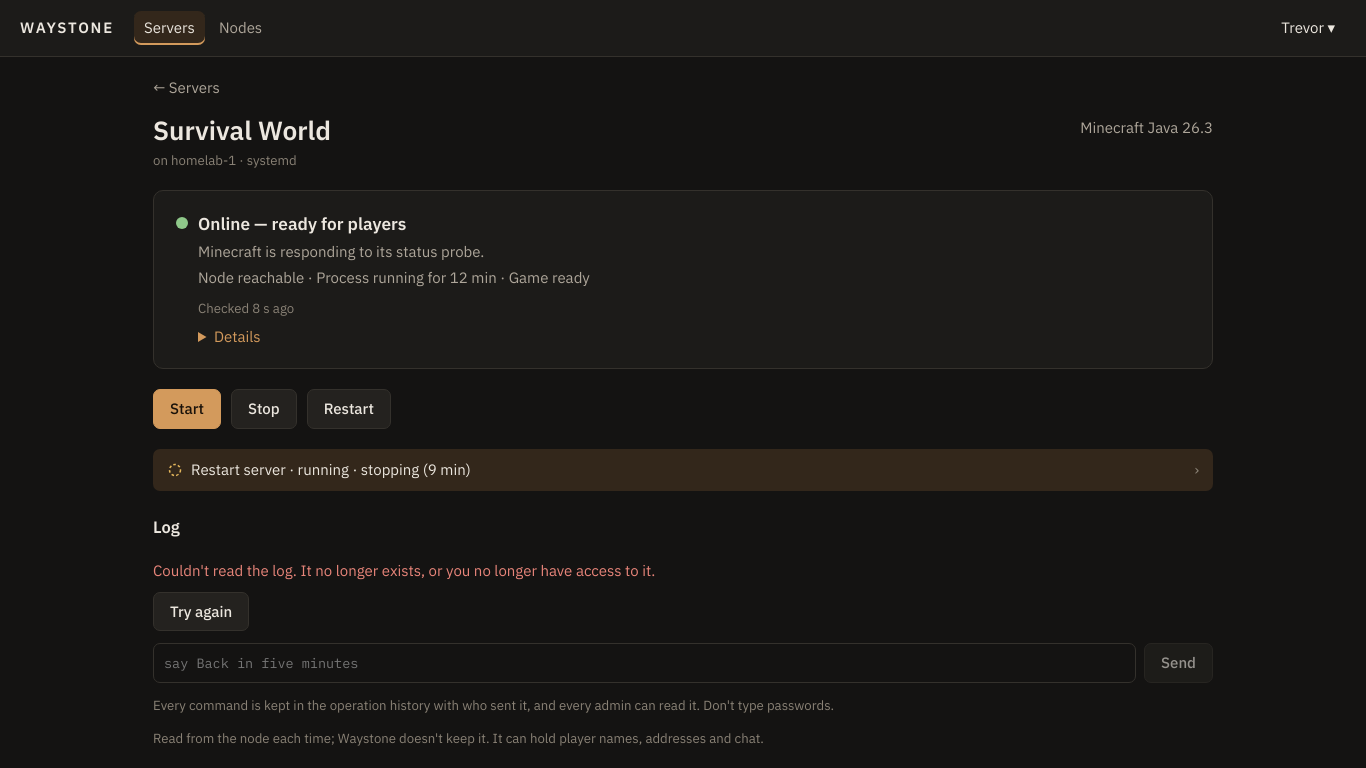
Test: server page (wireframes §3) › a session that ends goes to login, and comes back here afterwards
Check: the heading "Survival World" is shown, box [153,110,331,149]
Click the button "Stop". click: (264, 409)
box: [231,389,297,429]
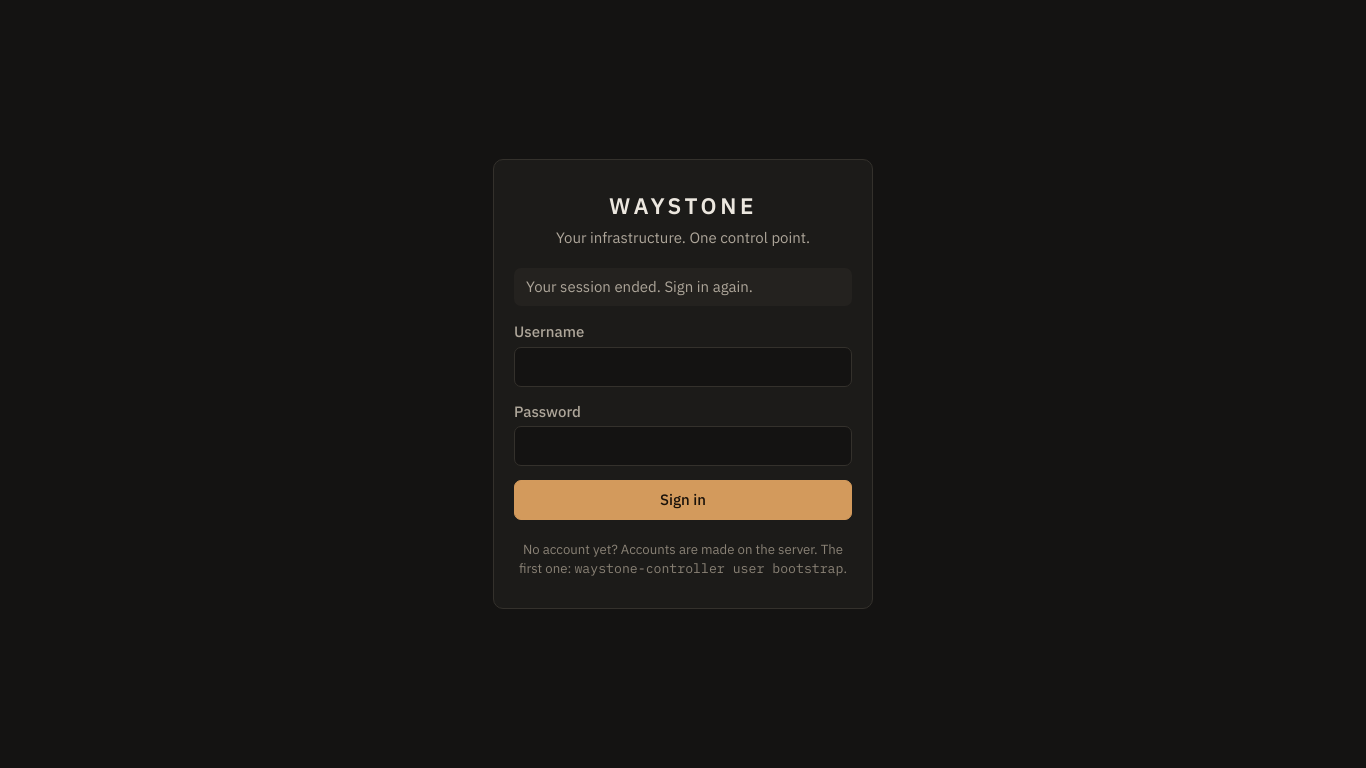
Check: the text "Your session ended. Sign in again." is shown, box [514,268,852,306]
